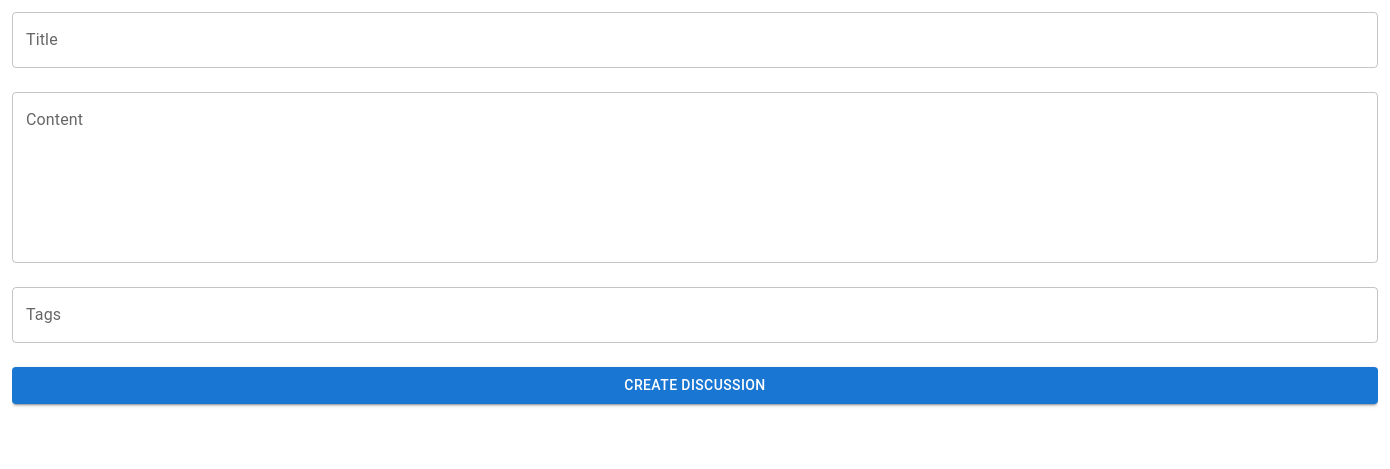
Test: DiscussionForm › shows validation errors when required fields are empty
Click the button "Create Discussion": (695, 385) top-left (12, 367), bottom-right (1378, 404)
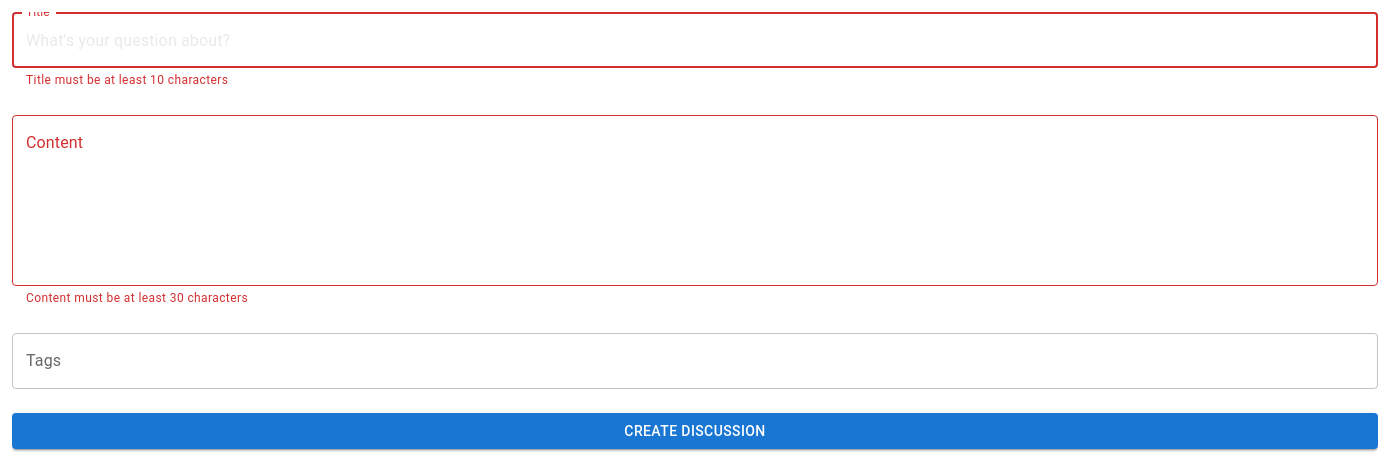
expect the text "Title must be at least 10 characters" is shown: met, box top-left (26, 73), bottom-right (228, 87)
expect the text "Content must be at least 30 characters" is shown: met, box top-left (26, 291), bottom-right (248, 305)
